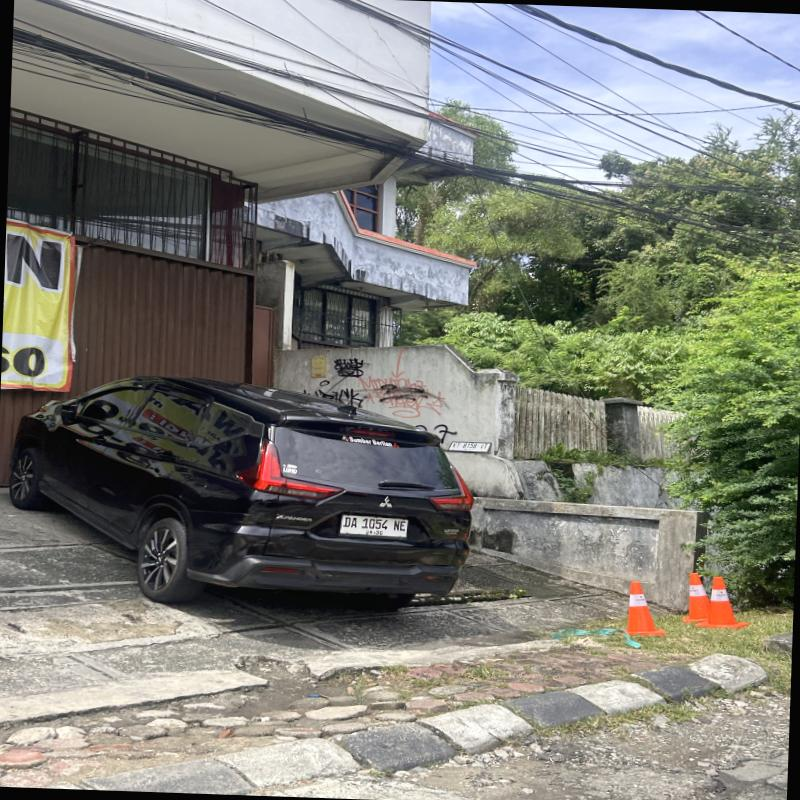license plate on a car: (339, 514, 408, 538)
